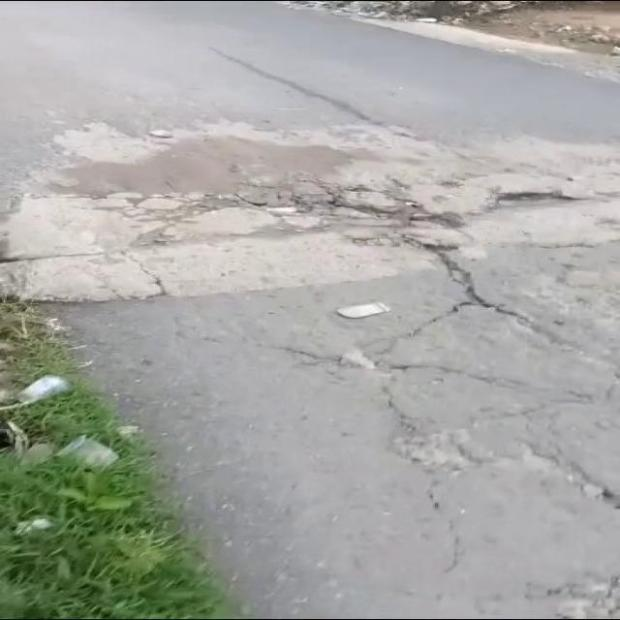lubang: (0, 124, 619, 301)
